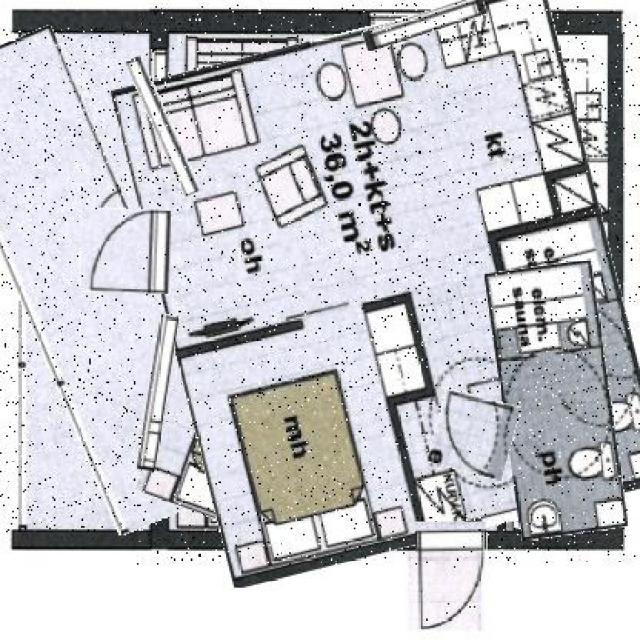door: (80, 209, 171, 294), (417, 522, 488, 626), (432, 392, 517, 477)
window: (139, 54, 186, 198), (143, 314, 174, 471), (362, 3, 486, 42)
zone: (137, 4, 640, 564), (0, 26, 197, 532), (152, 292, 372, 540), (494, 261, 620, 537)
